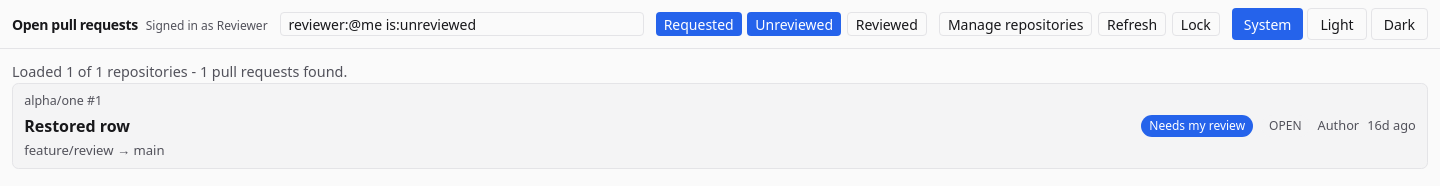
Test: Revelio shell › keeps refreshed providers usable after a trusted vault resume
Expected: the text "Restored row" is shown, top-left (24, 114), bottom-right (130, 136)
Click the button "Refresh" at (1132, 24), box top-left (1098, 12), bottom-right (1166, 36)
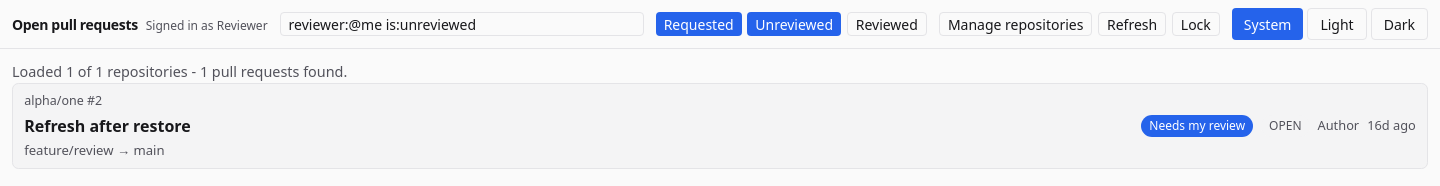
Now the text "Refresh after restore" is shown, box top-left (24, 114), bottom-right (191, 138)
